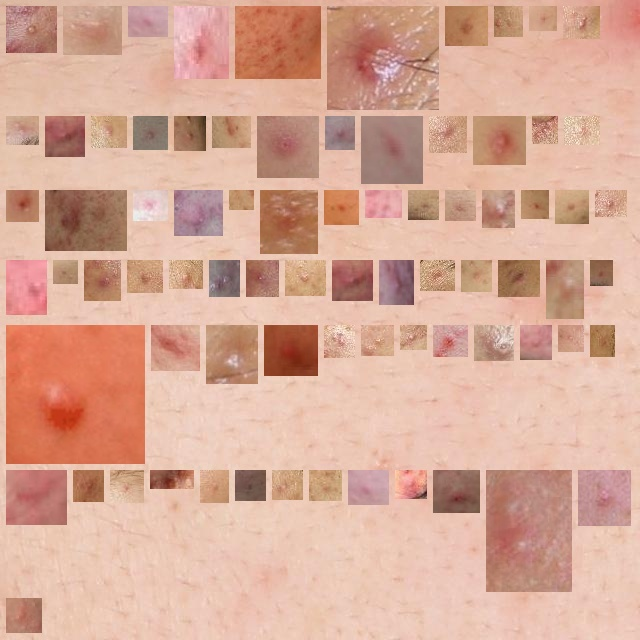papule: (14, 333, 137, 456), (335, 14, 431, 102), (494, 478, 564, 584), (243, 14, 313, 71), (53, 198, 119, 243), (369, 124, 415, 176), (182, 14, 221, 71), (265, 124, 311, 170), (268, 198, 310, 246), (14, 478, 59, 517), (214, 333, 250, 376), (586, 478, 623, 518), (71, 14, 114, 47), (272, 333, 310, 368), (481, 124, 518, 157), (14, 14, 49, 45), (182, 198, 215, 228), (159, 333, 192, 363), (14, 268, 39, 307), (554, 268, 576, 311), (441, 478, 472, 505), (453, 14, 480, 38), (340, 268, 365, 293), (53, 124, 77, 149), (387, 268, 406, 297), (506, 268, 532, 289), (92, 268, 113, 293), (293, 268, 318, 288), (482, 333, 506, 353), (356, 478, 381, 497), (437, 124, 459, 145), (14, 606, 34, 625), (490, 198, 507, 220), (220, 124, 243, 140), (332, 198, 351, 217), (136, 14, 160, 29), (571, 14, 592, 31), (254, 268, 271, 289), (141, 124, 160, 142), (135, 268, 155, 285), (563, 198, 581, 216), (99, 124, 119, 140), (217, 268, 232, 289), (118, 478, 136, 495), (182, 124, 198, 143), (141, 198, 160, 214), (441, 333, 460, 349), (528, 333, 544, 352), (428, 268, 447, 283), (158, 478, 186, 488), (14, 198, 31, 214), (572, 124, 592, 137), (332, 333, 347, 350), (369, 333, 386, 348), (317, 478, 334, 493), (333, 124, 347, 142), (373, 198, 394, 210), (469, 268, 484, 284), (81, 478, 96, 494), (177, 268, 195, 281), (453, 198, 468, 213), (243, 478, 258, 493), (14, 124, 31, 137), (208, 478, 221, 495), (416, 198, 431, 212), (280, 478, 295, 492), (403, 478, 419, 491), (502, 14, 515, 29), (603, 198, 619, 209), (529, 198, 541, 211), (598, 333, 607, 349), (540, 124, 550, 136), (566, 333, 576, 344), (537, 14, 549, 23), (408, 333, 419, 342), (61, 268, 70, 276), (598, 268, 605, 278), (237, 198, 246, 202)
